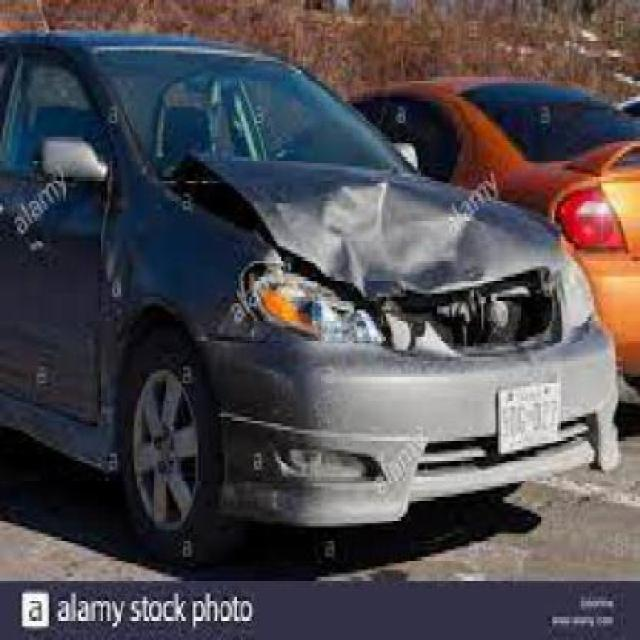bonnet-dent: (183, 171, 572, 297)
